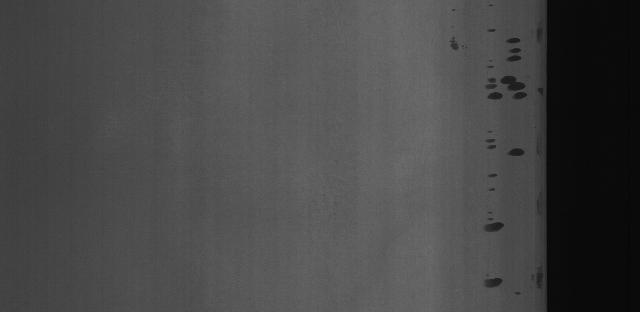oil_spot: (483, 19, 531, 110), (480, 130, 531, 165), (475, 209, 507, 238), (479, 272, 513, 295), (446, 26, 461, 53)
